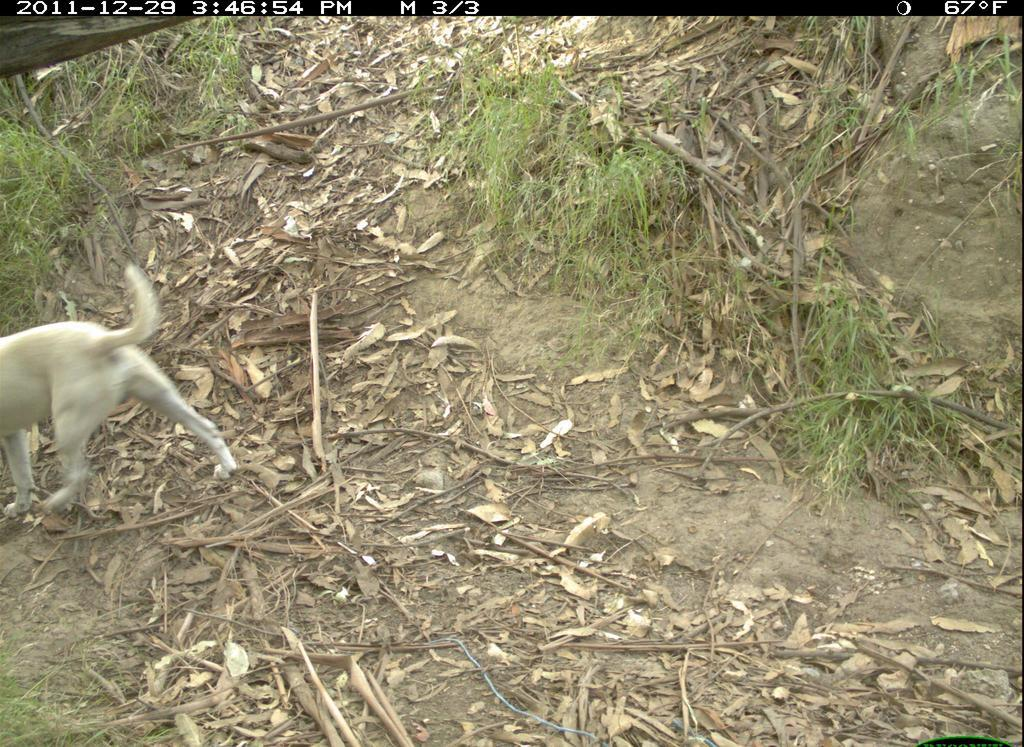dog: (3, 262, 242, 534)
